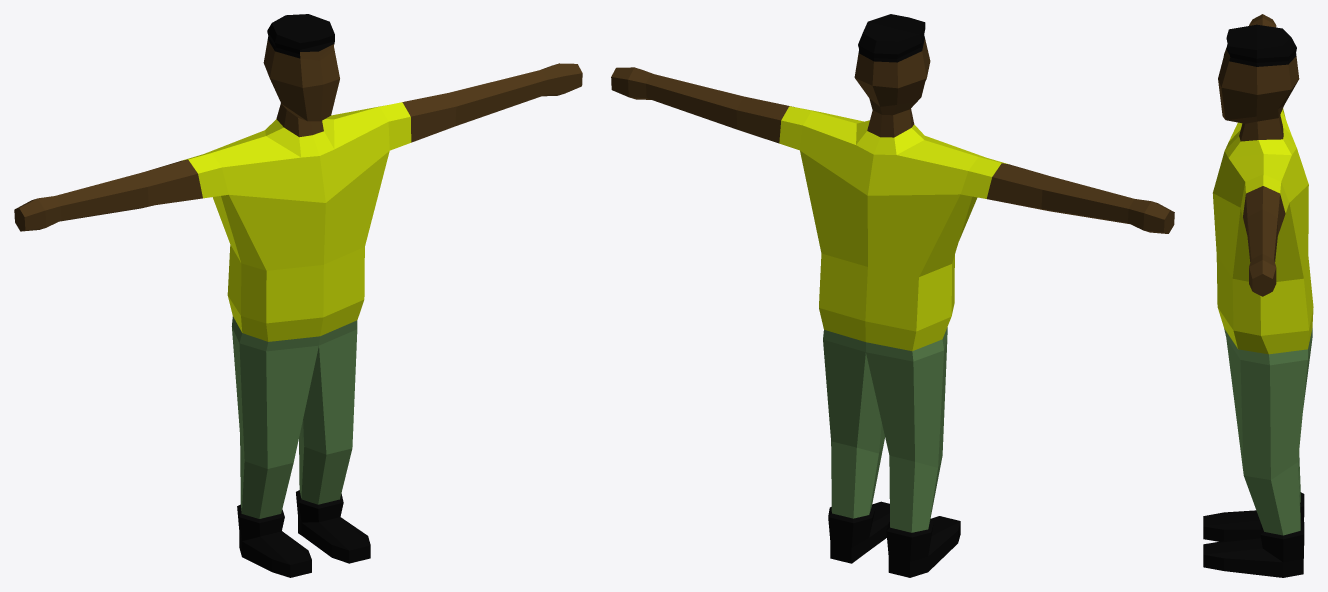
File: character_2.glb
3 renders of one model, left to right at view 1: azimuth 30°, elevation 25°; view 2: azimuth 150°, elevation 25°; view 3: azimuth 270°, elevation 25°, orthographic.
Visible parts, largest first — view 1: Cube.006; view 2: Cube.006; view 3: Cube.006.
Boxes of the visible parts, x1=… form: Cube.006: x1=14, y1=14, x2=582, y2=577; Cube.006: x1=611, y1=14, x2=1174, y2=577; Cube.006: x1=1203, y1=14, x2=1313, y2=577.
Bounding box in the file's own units: 8.72 × 7.87 × 1.52.
